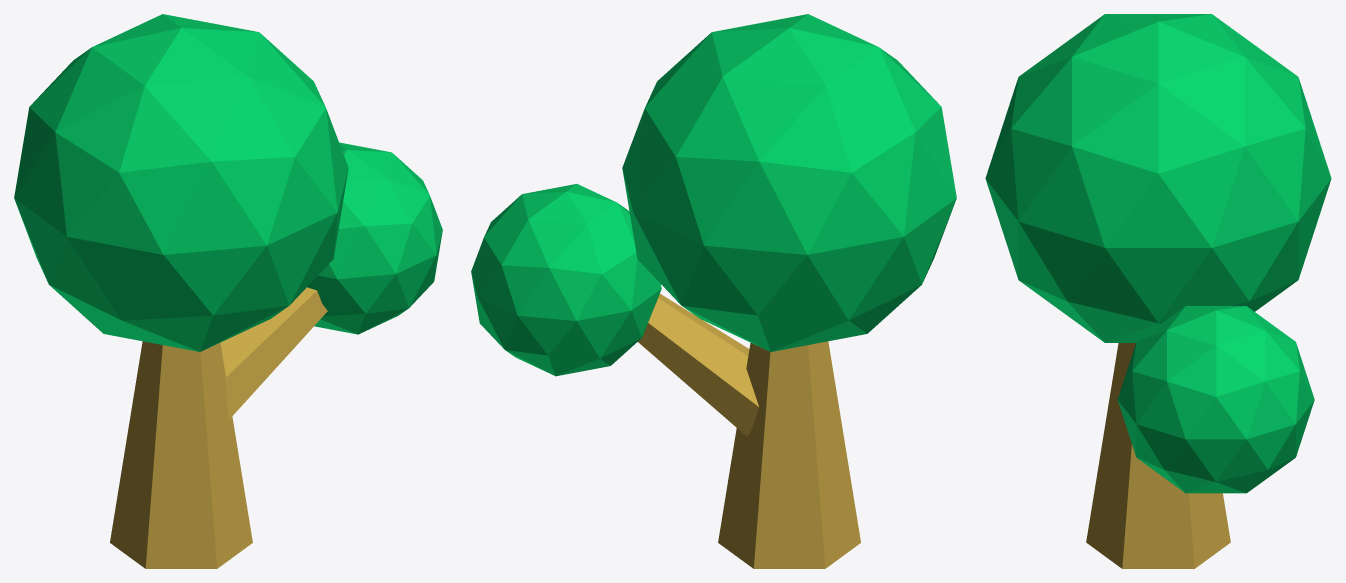
File: Tree2.fbx
3 renders of one model, left to right at view 1: azimuth 30°, elevation 25°; view 2: azimuth 150°, elevation 25°; view 3: azimuth 270°, elevation 25°, orthographic.
Parts seen in each view (by area): view 1: Cylinder.001; view 2: Cylinder.001; view 3: Cylinder.001.
Boxes of the visible parts, <box> form: Cylinder.001: <box>14,14,442,568</box>; Cylinder.001: <box>471,14,956,568</box>; Cylinder.001: <box>985,14,1331,568</box>.
Bounding box in the file's own units: 281 × 332 × 200.
